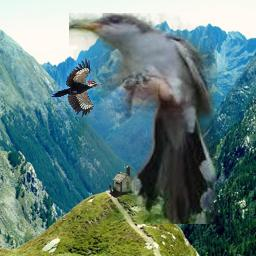Cuckoo: (69, 13, 217, 224)
Woodpecker: (51, 57, 102, 117)
